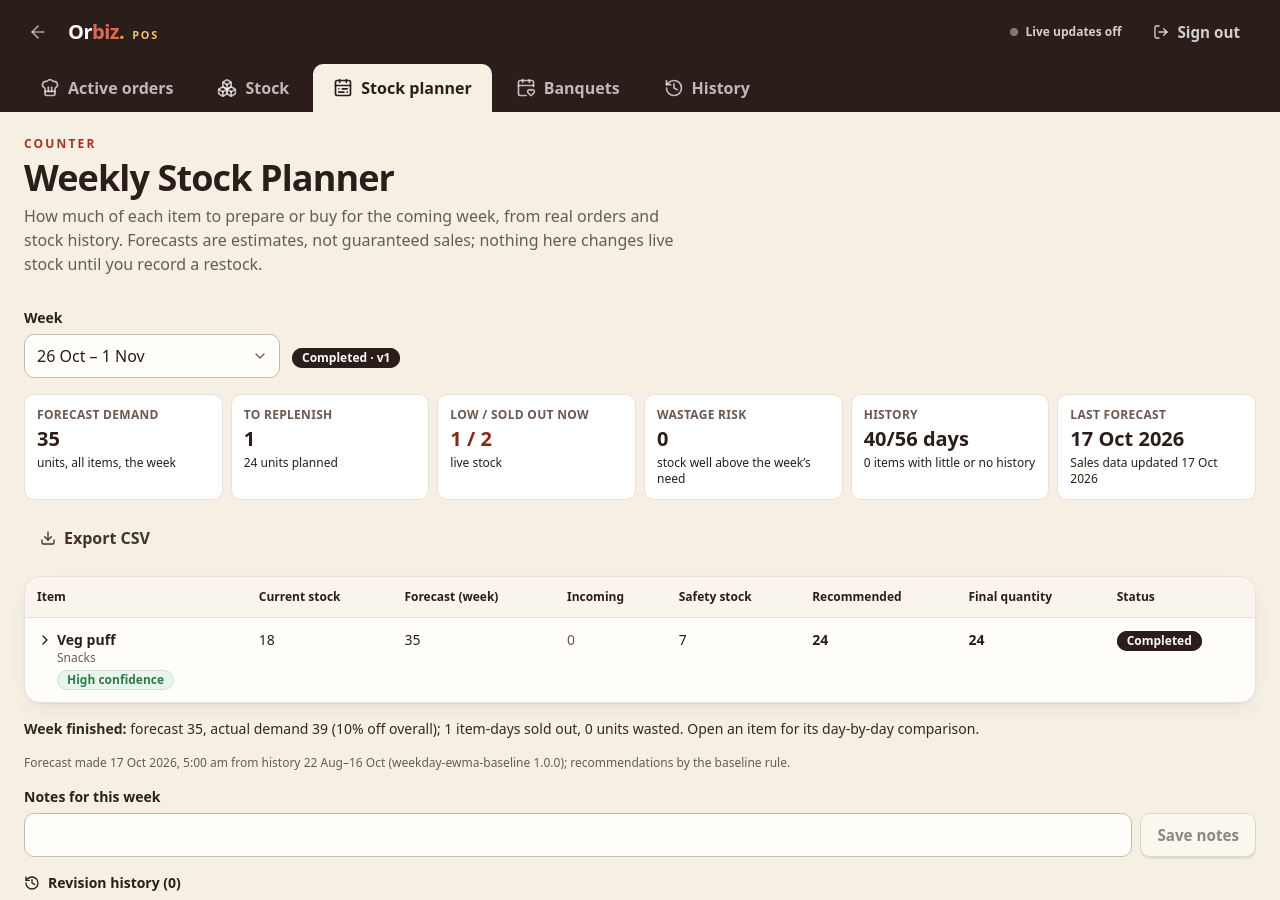
Test: Weekly Stock Planner › compares forecast with actual once the week is over
The width and height of the screenshot is (1280, 900).
Check: the text "Week finished:" shows "actual demand 39 (10% off overall)", box [24,719,979,738]
Click the button "Veg puff Snacks" at (76, 648), box [37,630,116,666]
(page scrolled)
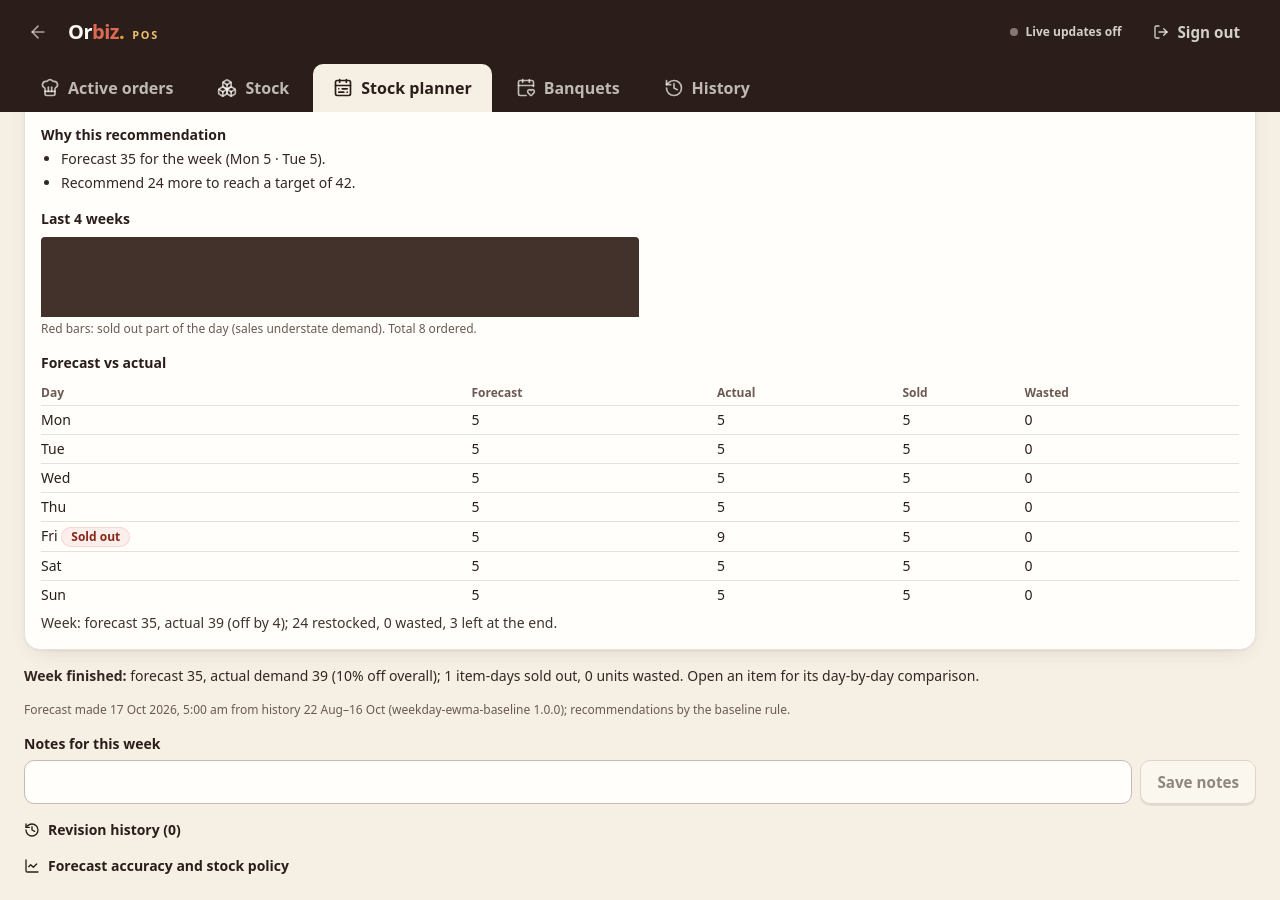
Check: the text "forecast 35, actual 39 (off by 4)" is shown, box [41,613,557,632]
Check: the text "Sold out" is shown, box [61,527,130,547]
